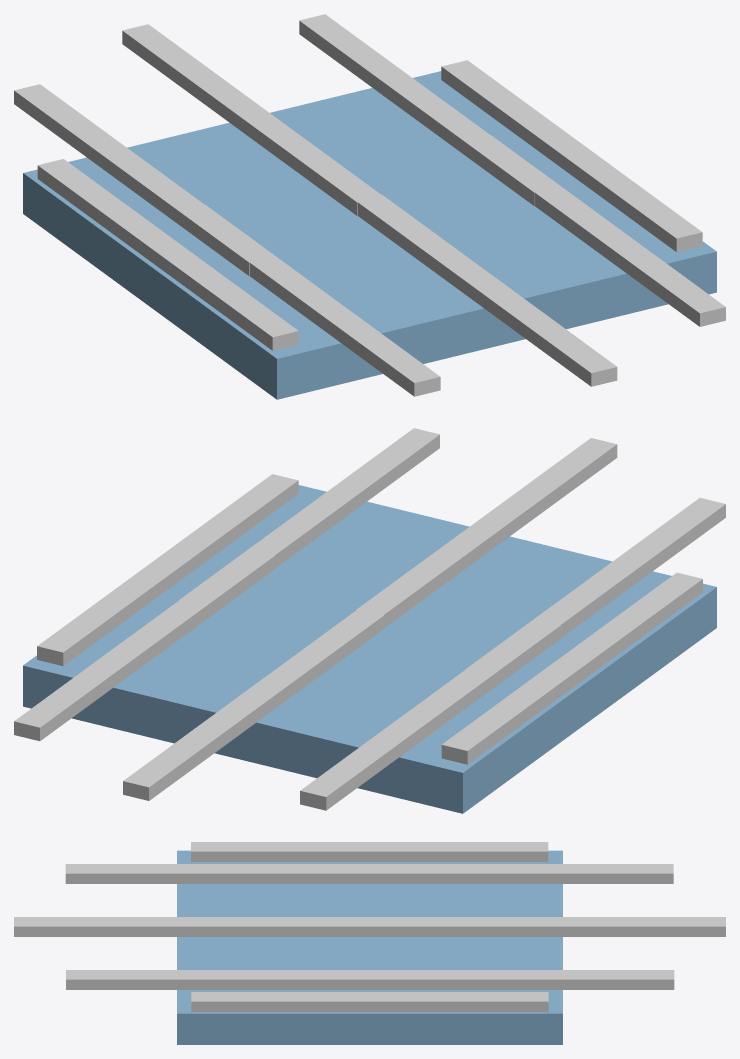
File: aura_t8.glb
The picture shows the model from 3 angles, top to bottom: view 1: azimuth 30°, elevation 25°; view 2: azimuth 150°, elevation 25°; view 3: azimuth 270°, elevation 25°; orthographic projection. The views are drawn at different scales.
Visible parts, largest first — view 1: geometry_0; view 2: geometry_0; view 3: geometry_0.
Boxes of the visible parts, x1,y1,x2,y2 form: geometry_0: (14, 14, 725, 399); geometry_0: (14, 428, 725, 813); geometry_0: (14, 842, 725, 1044).
Size of the model in its own units: 1.35 by 0.16 by 2.49.
